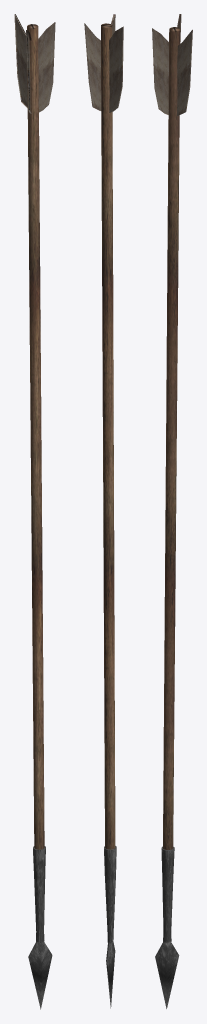
File: archery_arrow.fbx
3 renders of one model, left to right at view 1: azimuth 90°, elevation 25°; view 2: azimuth 150°, elevation 25°; view 3: azimuth 270°, elevation 25°, orthographic.
Parts seen in each view (by area): view 1: arrow; view 2: arrow; view 3: arrow.
Part boxes in pixels (bbox=[...]): arrow: bbox=[14, 14, 55, 1009]; arrow: bbox=[84, 14, 123, 1008]; arrow: bbox=[152, 14, 192, 1008].
Bounding box in the file's own units: 0.1895 × 5.41 × 0.2036.
1 material, 1 textured.
